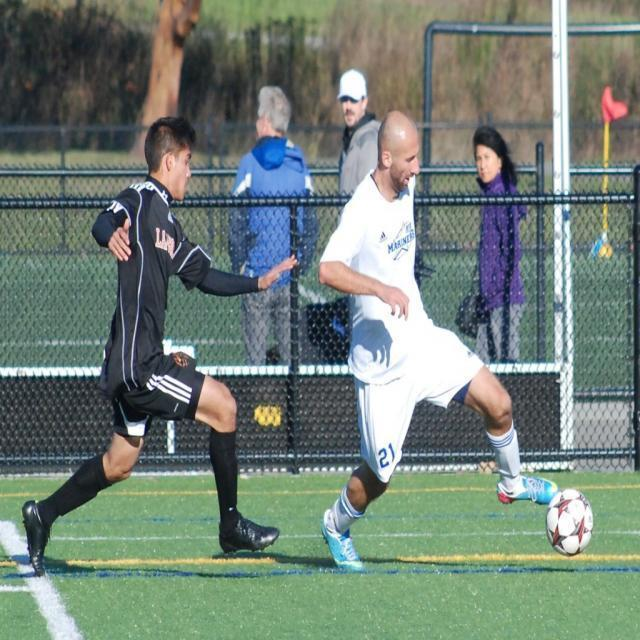ball: (545, 486, 594, 558)
